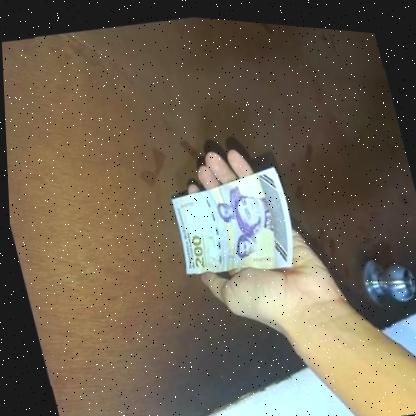two_hundred-front-vef: (159, 151, 301, 285)
